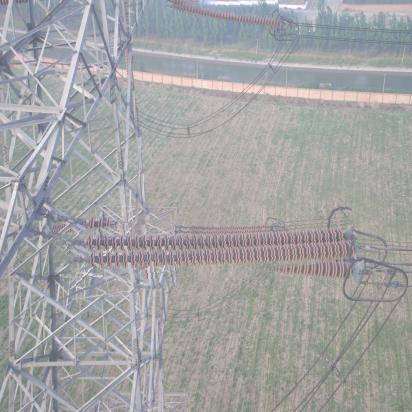insulator: (64, 200, 359, 292), (156, 1, 280, 36)
